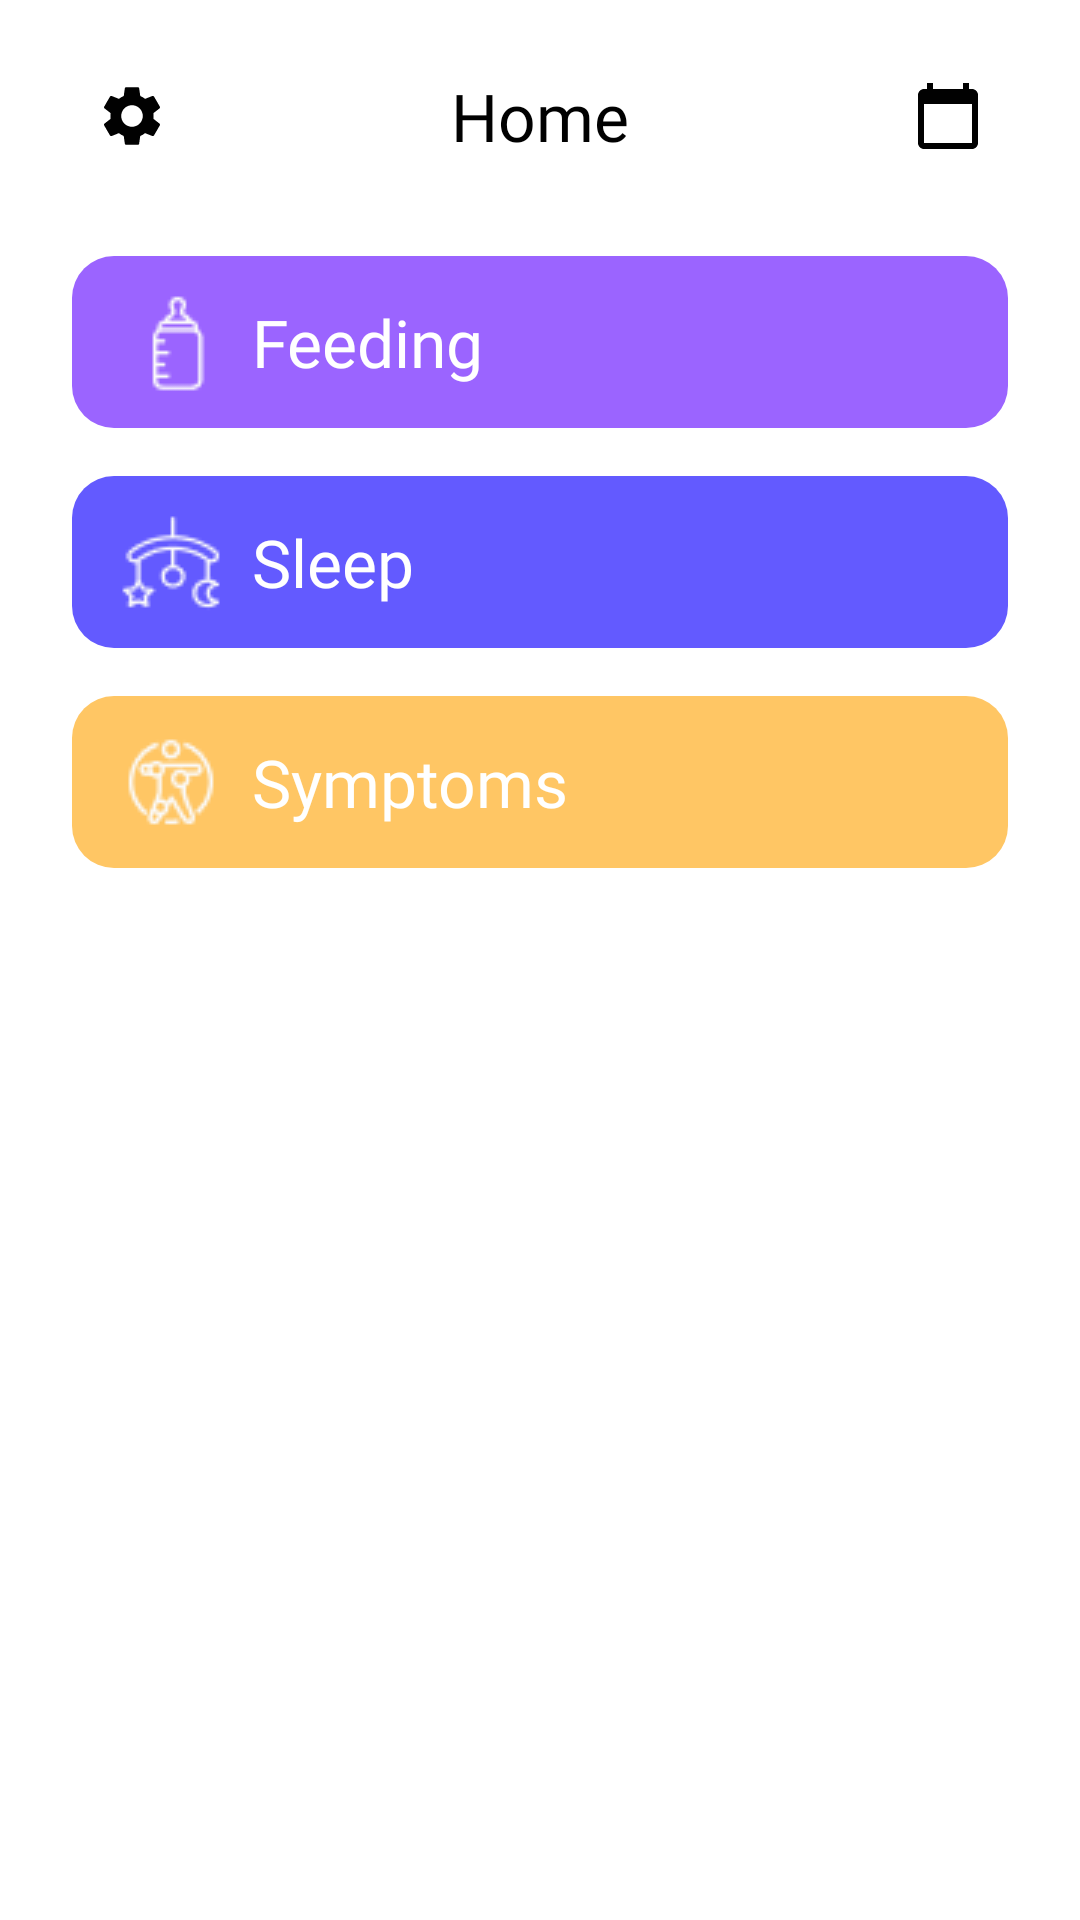

Icon bounding boxes for this 1080 × 1920 phone screenshot, format (x1,y1,x2,y2):
calendar: (918,83,978,149)
settings: (104,87,160,145)
